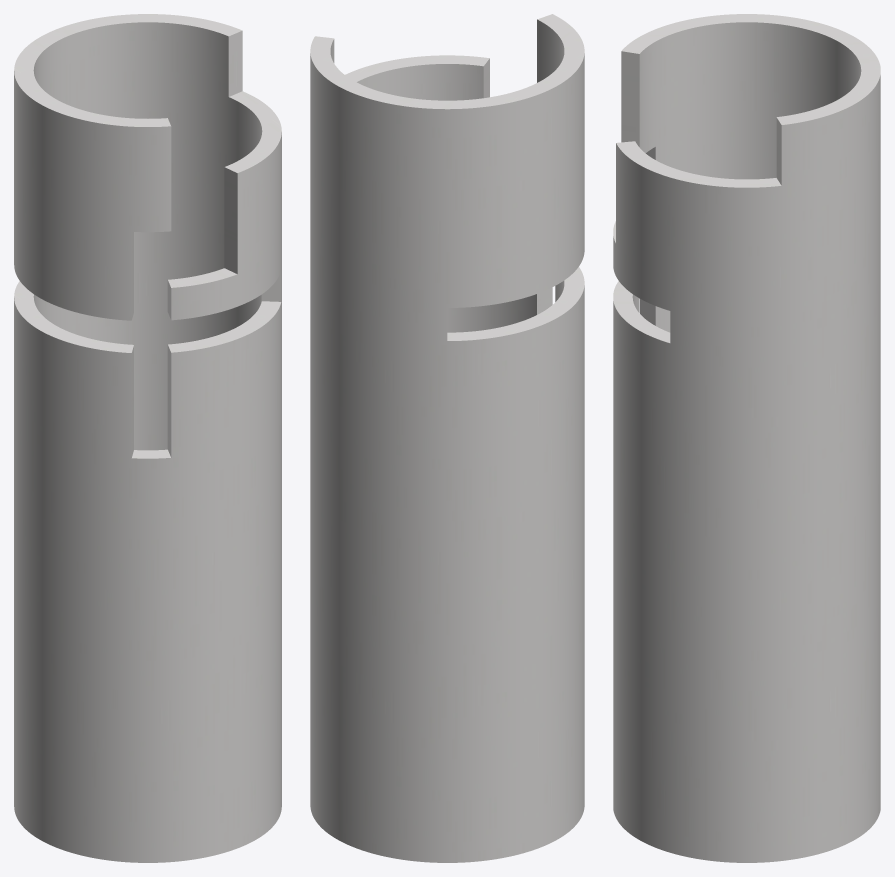
File: king-white.glb
3 views of the same model, side by side, from view 1: azimuth 30°, elevation 25°; view 2: azimuth 150°, elevation 25°; view 3: azimuth 270°, elevation 25° (orthographic). The views are drawn at different scales.
Visible parts, largest first — view 1: 01_kral_bila; view 2: 01_kral_bila; view 3: 01_kral_bila.
Boxes of the visible parts, x1=… form: 01_kral_bila: x1=14, y1=14, x2=281, y2=862; 01_kral_bila: x1=310, y1=14, x2=584, y2=862; 01_kral_bila: x1=613, y1=14, x2=880, y2=862.
Size of the model in its own units: 0.4681 by 1.42 by 0.4681.
1 material, 1 textured.
